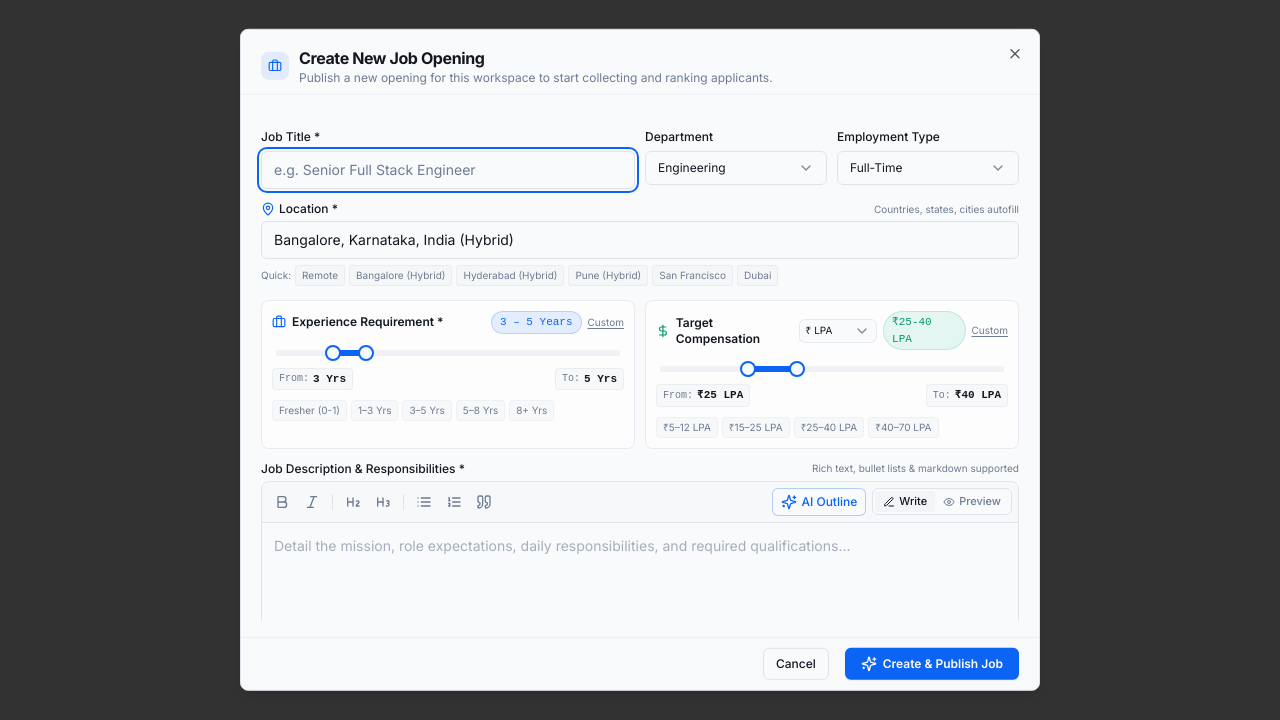
Test: Job Location Presets & Autofill Suite › renders CreateJobModal with datalist and quick location selector buttons
Expected: the field labelled "Location *" is shown, [261,221,1019,259]
Click the button "Remote" at [320, 275], box [295,265,345,286]
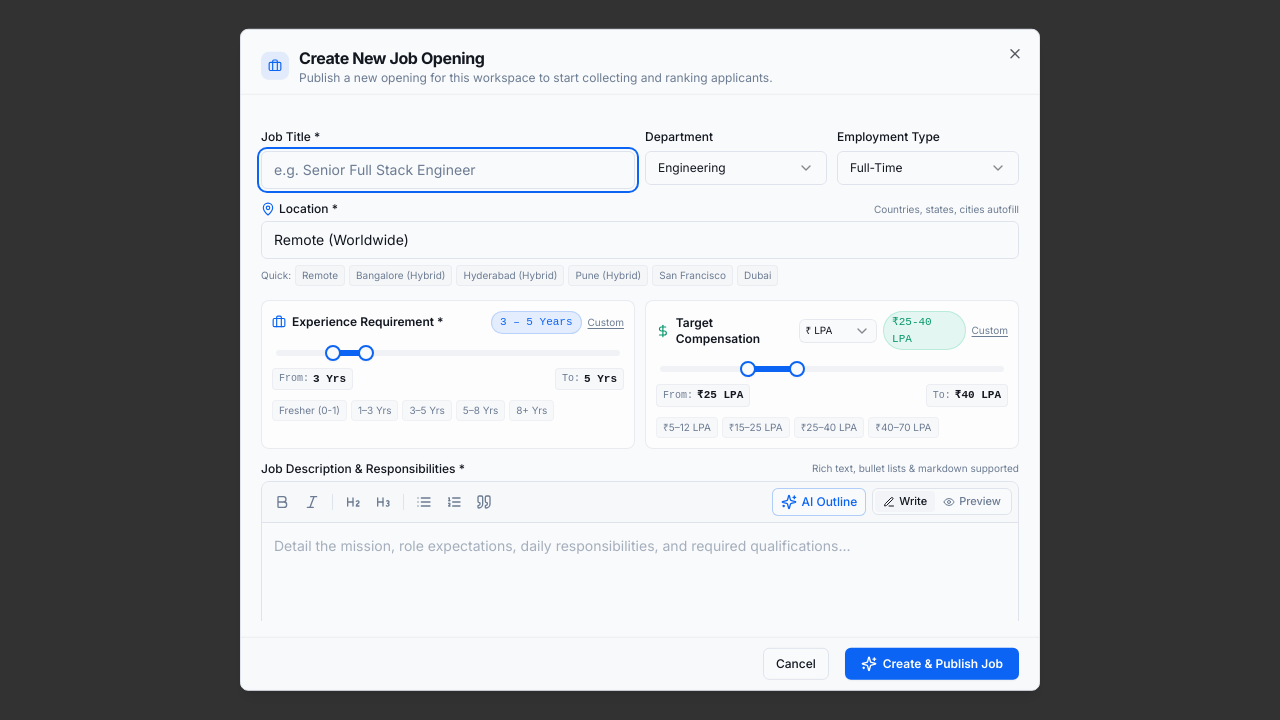
Expected: the field labelled "Location *" holds "Remote (Worldwide)", [261,221,1019,259]
